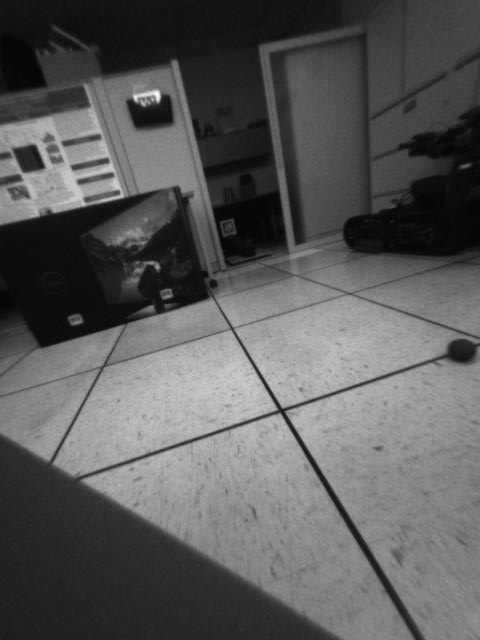dogtoy: (437, 330, 480, 369)
